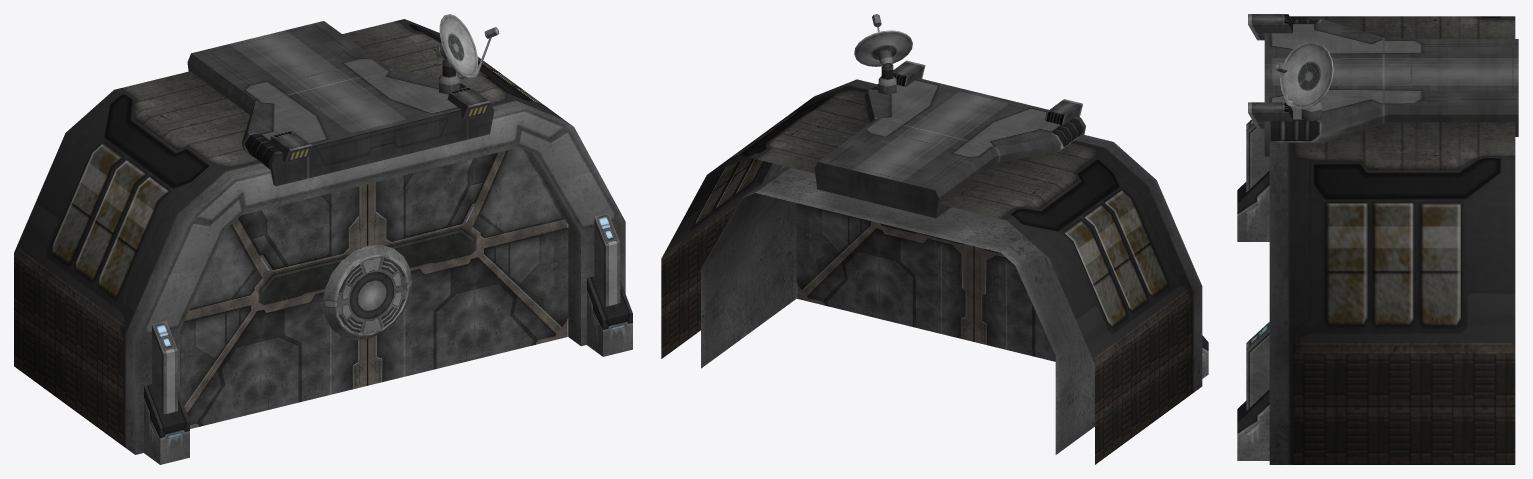
Rendered from doodad_giant_gate.fbx.
3 renders of one model, left to right at view 1: azimuth 30°, elevation 25°; view 2: azimuth 150°, elevation 25°; view 3: azimuth 270°, elevation 25°, orthographic. The views are drawn at different scales.
Parts seen in each view (by area): view 1: polySurface1; view 2: polySurface1; view 3: polySurface1.
Boxes of the visible parts, box(x1,y1,x2,y2) form: polySurface1: box(14, 14, 632, 464); polySurface1: box(661, 14, 1208, 464); polySurface1: box(1237, 14, 1518, 464).
Bounding box in the file's own units: 22 × 14.54 × 10.8.
Materials: 1 (1 with a texture image).
